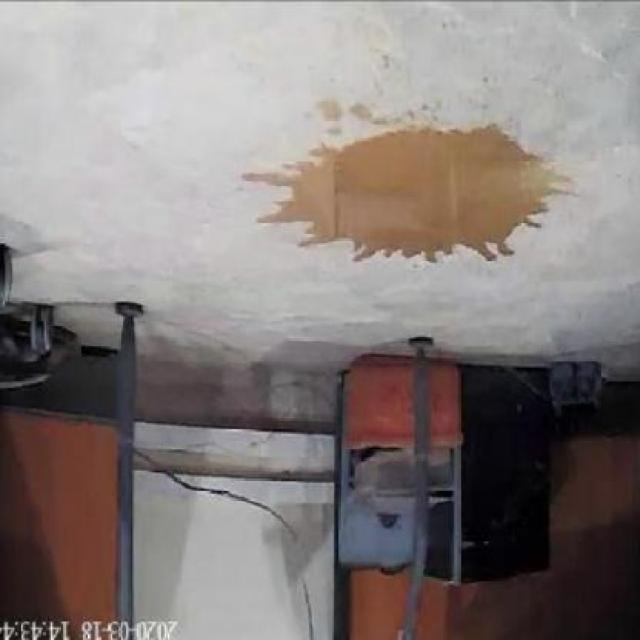spillage: (247, 123, 571, 261)
